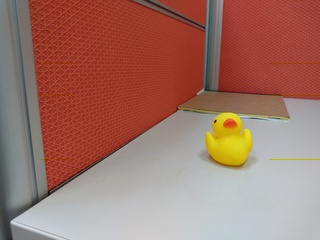duck: (202, 108, 256, 173)
